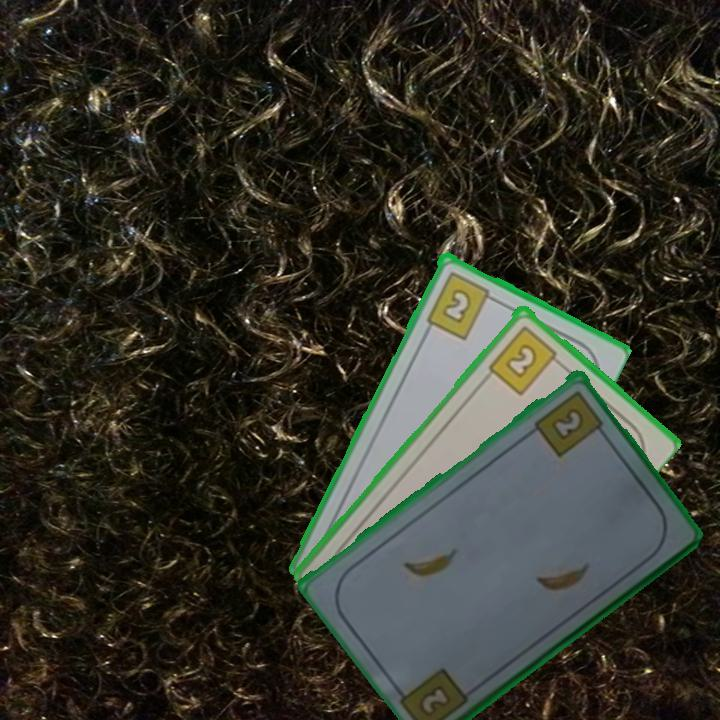2b: (484, 321, 565, 398), (422, 267, 500, 342), (530, 386, 608, 460), (418, 680, 454, 716)
